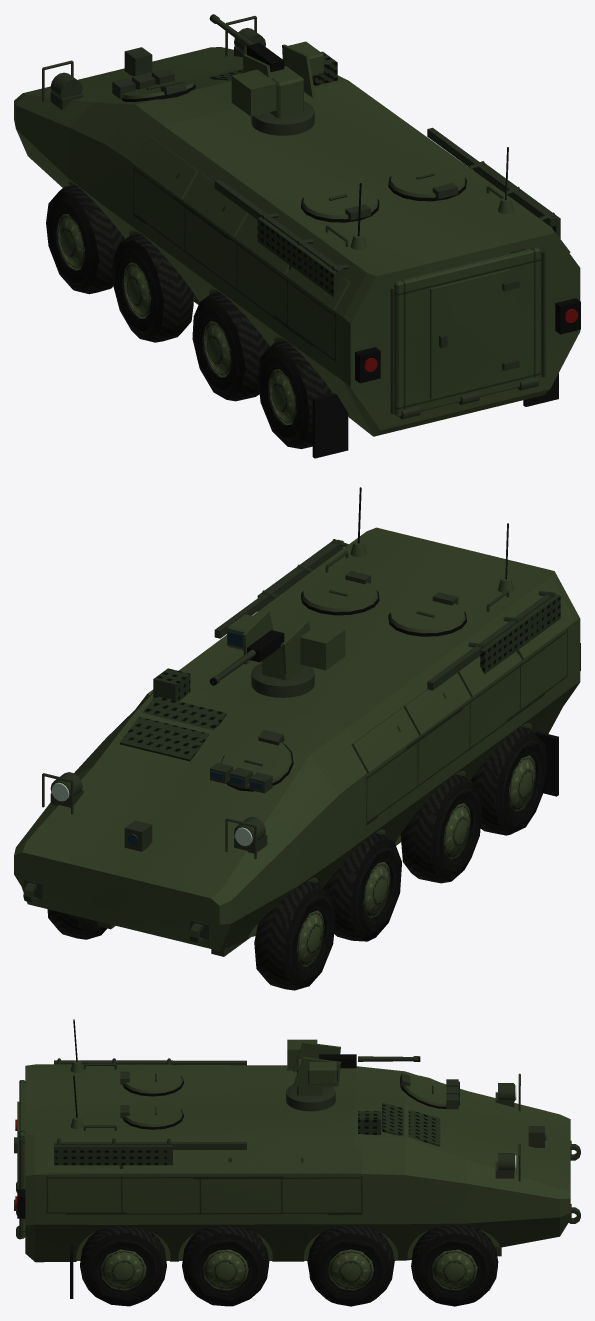
The model's file is apc_lod1.glb.
The picture shows the model from 3 angles, top to bottom: view 1: azimuth 30°, elevation 25°; view 2: azimuth 150°, elevation 25°; view 3: azimuth 270°, elevation 25°; orthographic projection. The views are drawn at different scales.
Visible parts, largest first — view 1: hull, ramp, wheel_L_2, apc_turret, wheel_L_3, wheel_L_1, wheel_L_0, apc_cannon; view 2: hull, wheel_L_3, wheel_L_1, apc_turret, wheel_L_2, wheel_L_0, apc_cannon, wheel_R_3; view 3: hull, wheel_R_3, wheel_R_2, wheel_R_1, wheel_R_0, apc_turret, ramp, apc_cannon.
Boxes of the visible parts, box(x1,y1,x2,y2) form: hull: box(14, 16, 580, 458); ramp: box(394, 247, 540, 416); wheel_L_2: box(112, 233, 193, 342); apc_turret: box(231, 41, 323, 135); wheel_L_3: box(46, 184, 124, 294); wheel_L_1: box(192, 292, 269, 401); wheel_L_0: box(258, 340, 332, 449); apc_cannon: box(209, 14, 284, 71); hull: box(14, 487, 580, 956); wheel_L_3: box(254, 881, 335, 990); wheel_L_1: box(400, 774, 481, 883); apc_turret: box(227, 610, 345, 697); wheel_L_2: box(323, 833, 401, 941); wheel_L_0: box(470, 726, 547, 835); apc_cannon: box(209, 630, 284, 685); wheel_R_3: box(47, 909, 106, 939); hull: box(15, 1019, 580, 1298); wheel_R_3: box(411, 1225, 498, 1306); wheel_R_2: box(307, 1225, 394, 1306); wheel_R_1: box(182, 1225, 269, 1306); wheel_R_0: box(80, 1225, 166, 1306); apc_turret: box(286, 1039, 340, 1111); ramp: box(14, 1080, 25, 1238); apc_cannon: box(319, 1054, 420, 1068).
Size of the model in its own units: 2.91 by 3.08 by 7.33.
1 material, 1 textured.
